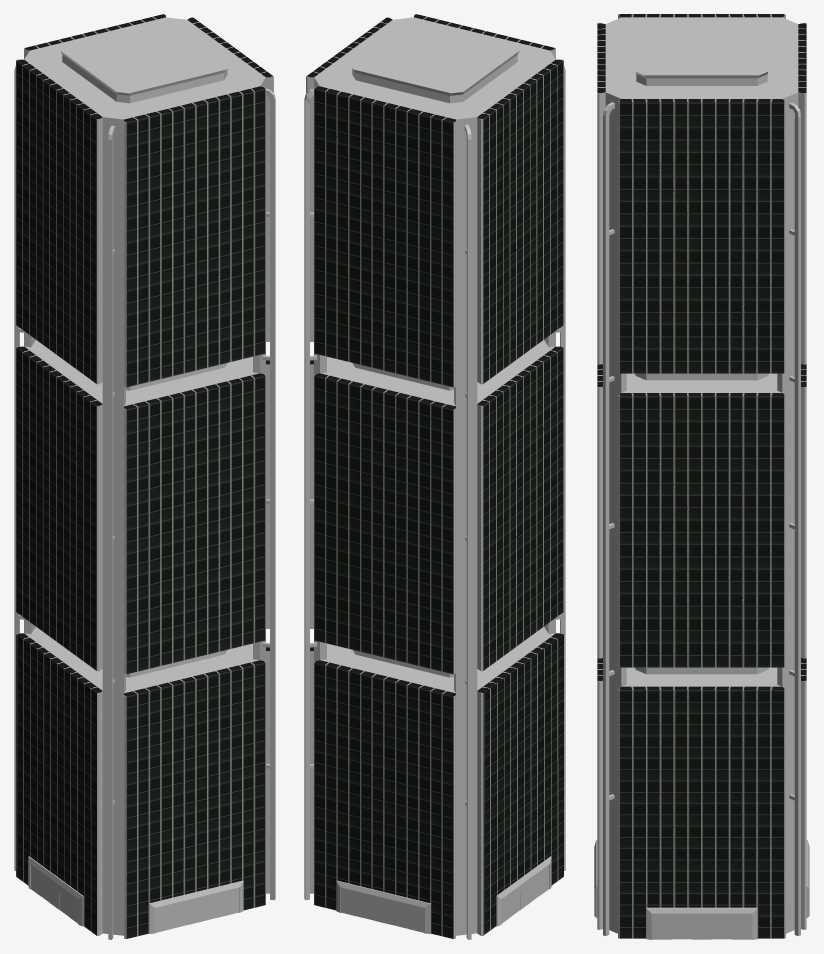
The picture shows the model from 3 angles, left to right: view 1: azimuth 30°, elevation 25°; view 2: azimuth 150°, elevation 25°; view 3: azimuth 270°, elevation 25°; orthographic projection. The views are drawn at different scales.
Parts seen in each view (by area): view 1: EC-038; view 2: EC-038; view 3: EC-038.
Part boxes in pixels (x1,y1,x2,y2): EC-038: (14,14,275,939); EC-038: (304,14,565,939); EC-038: (594,14,809,939).
Size of what is drawn, in the model's own units: 28.78 by 125 by 28.78.
